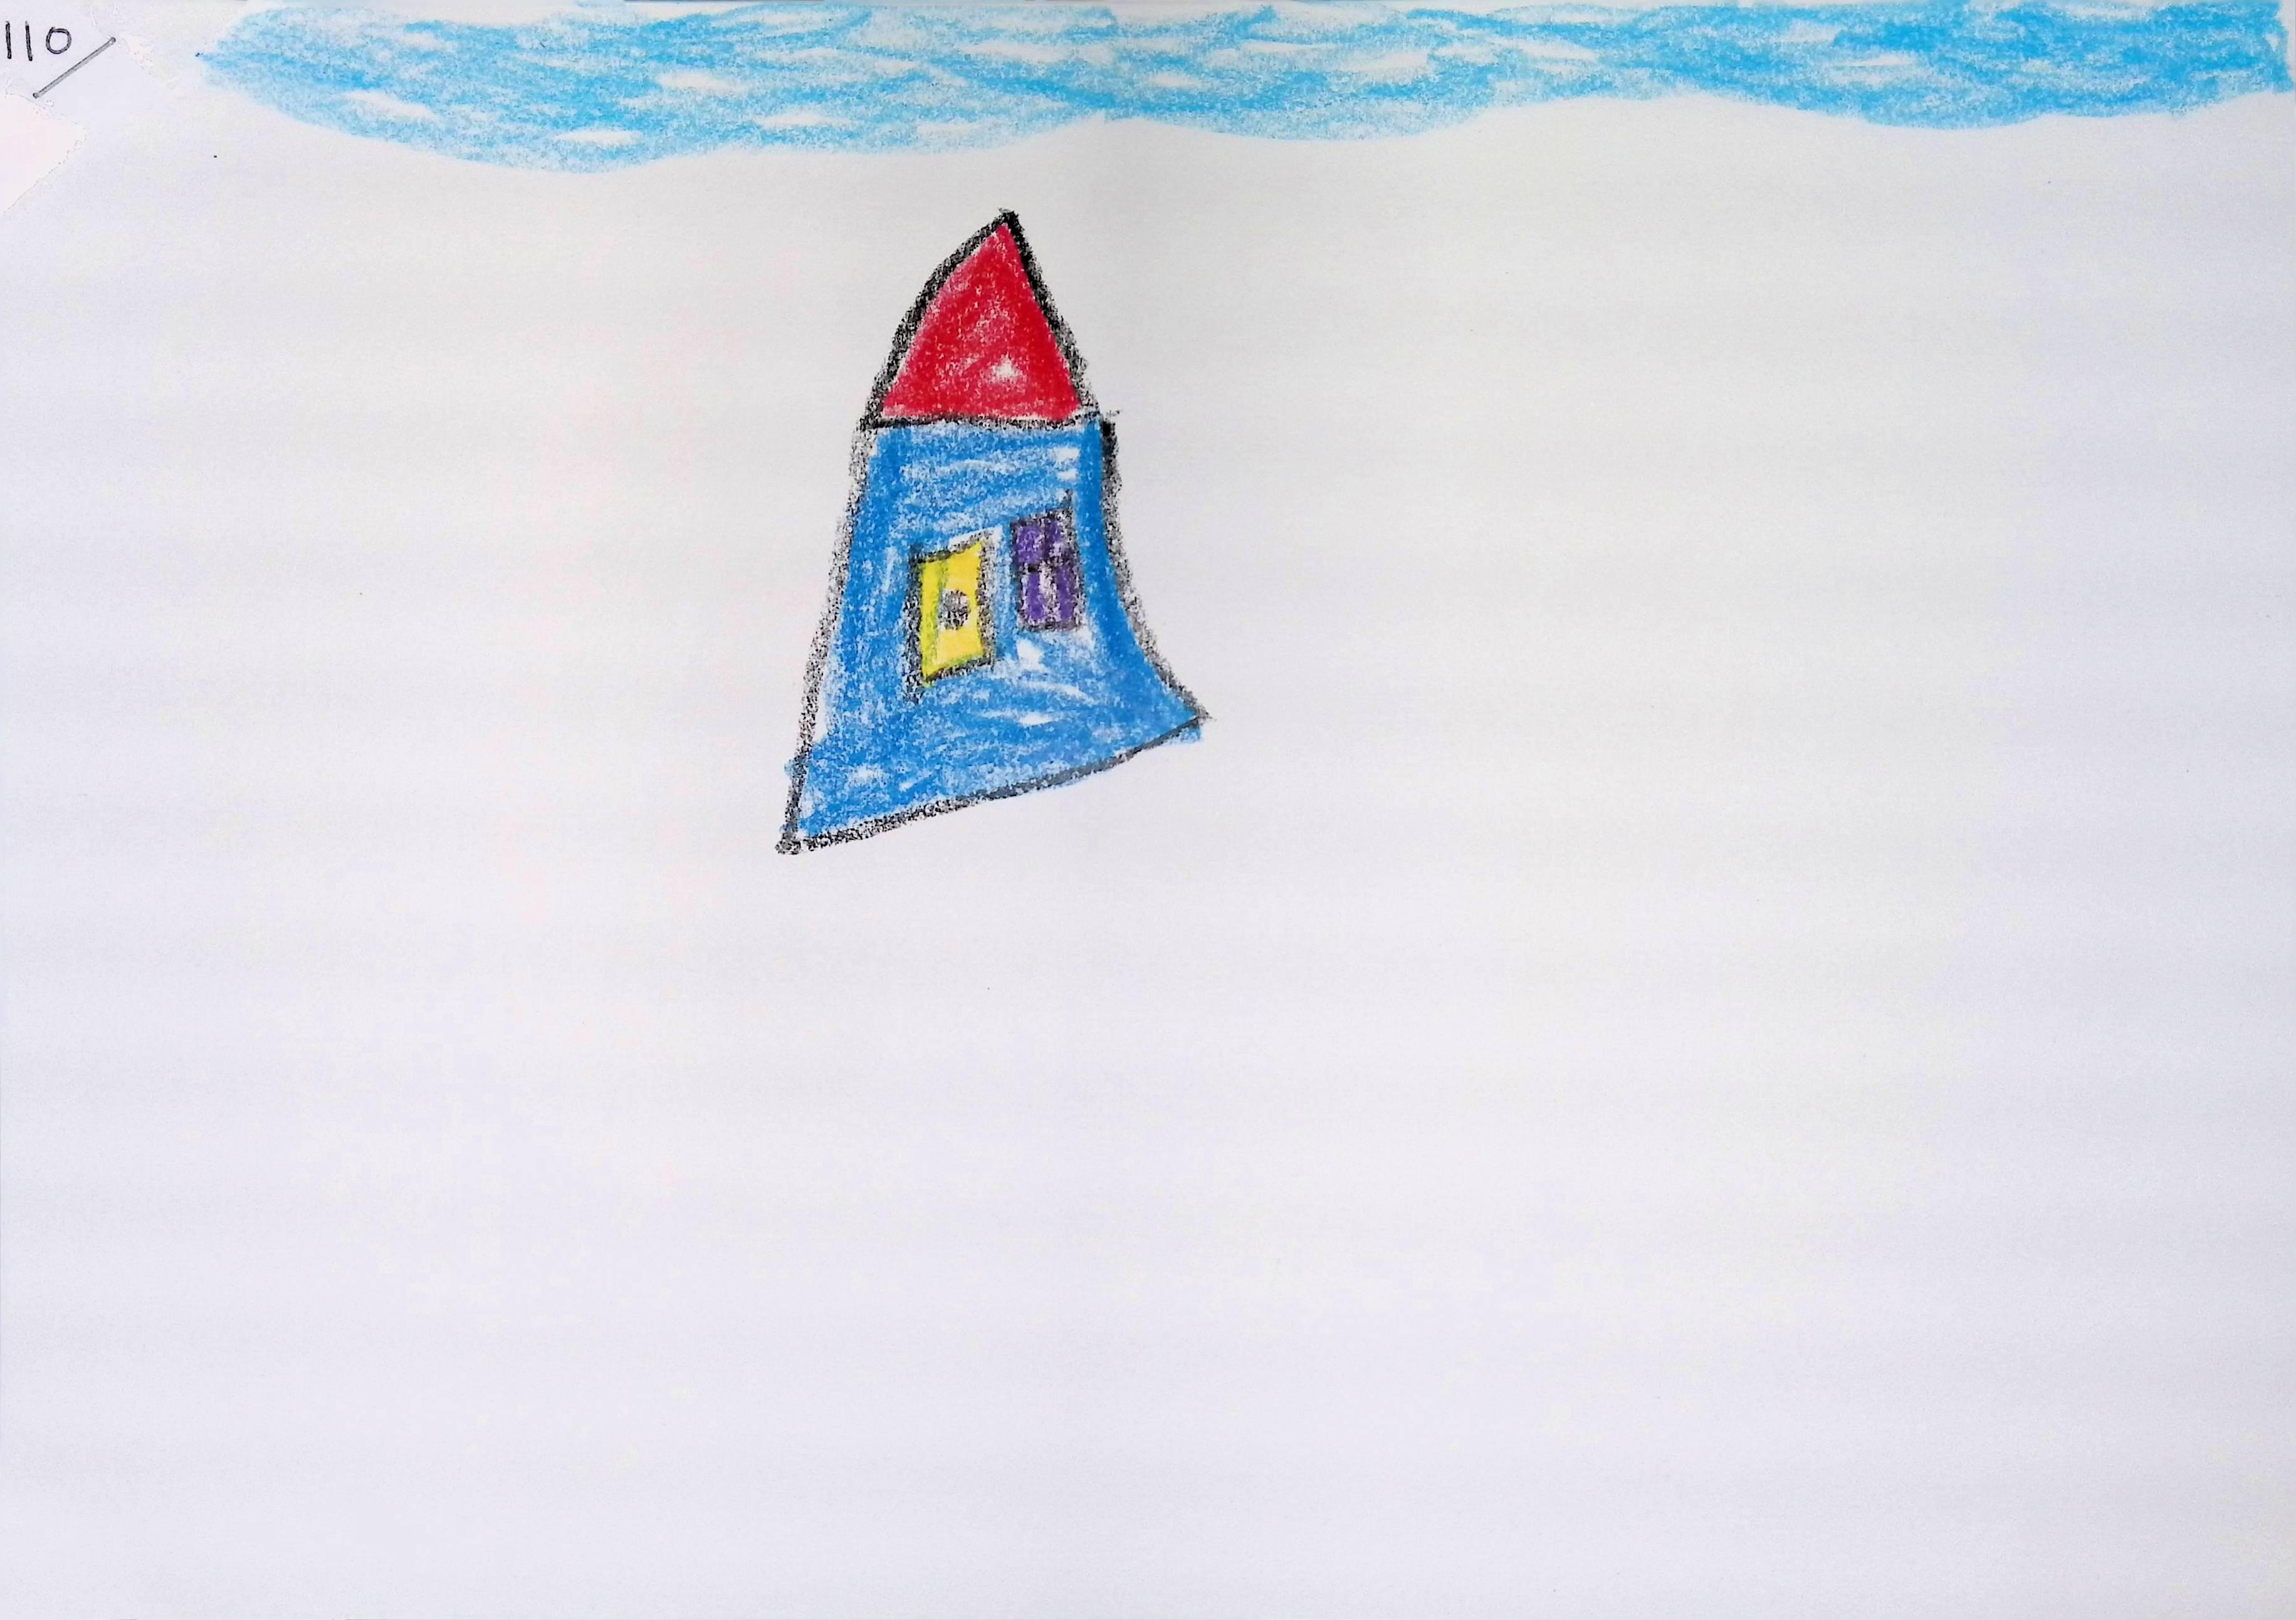door: (915, 536, 992, 684)
house: (783, 210, 1202, 849)
roof: (880, 221, 1080, 417)
wall: (780, 419, 1204, 850)
window: (1011, 508, 1083, 628)
